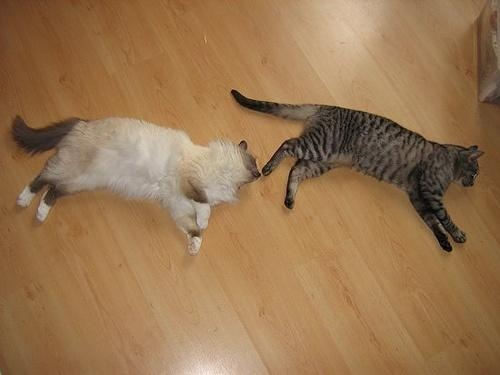cat: (231, 88, 483, 256), (11, 113, 266, 259)
